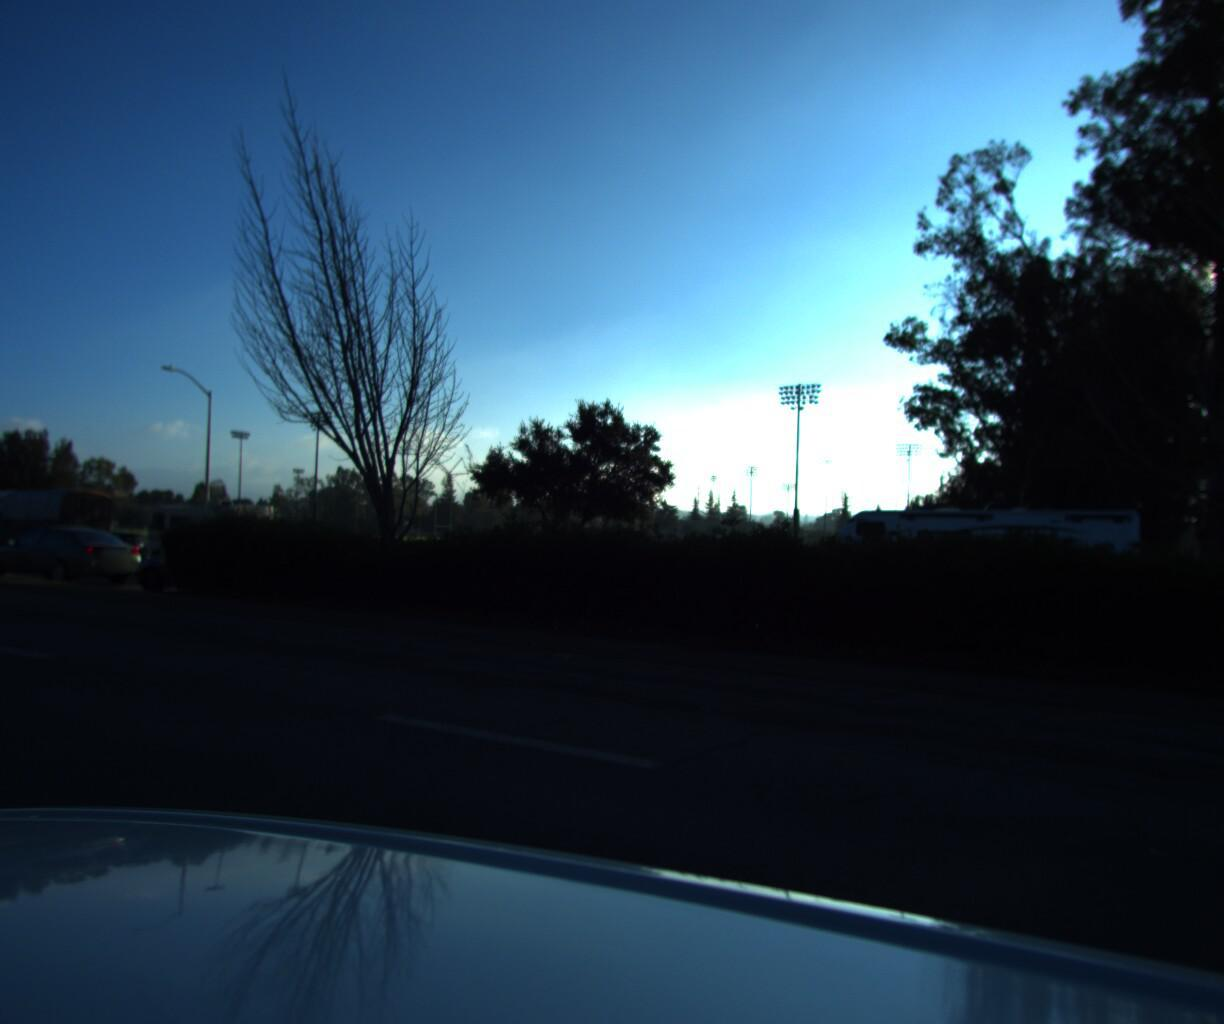bus: (0, 481, 118, 557)
car: (118, 527, 321, 598), (0, 518, 154, 584), (78, 525, 157, 558), (0, 513, 5, 570)
other_vehicle: (806, 491, 1151, 636), (137, 491, 289, 569)
